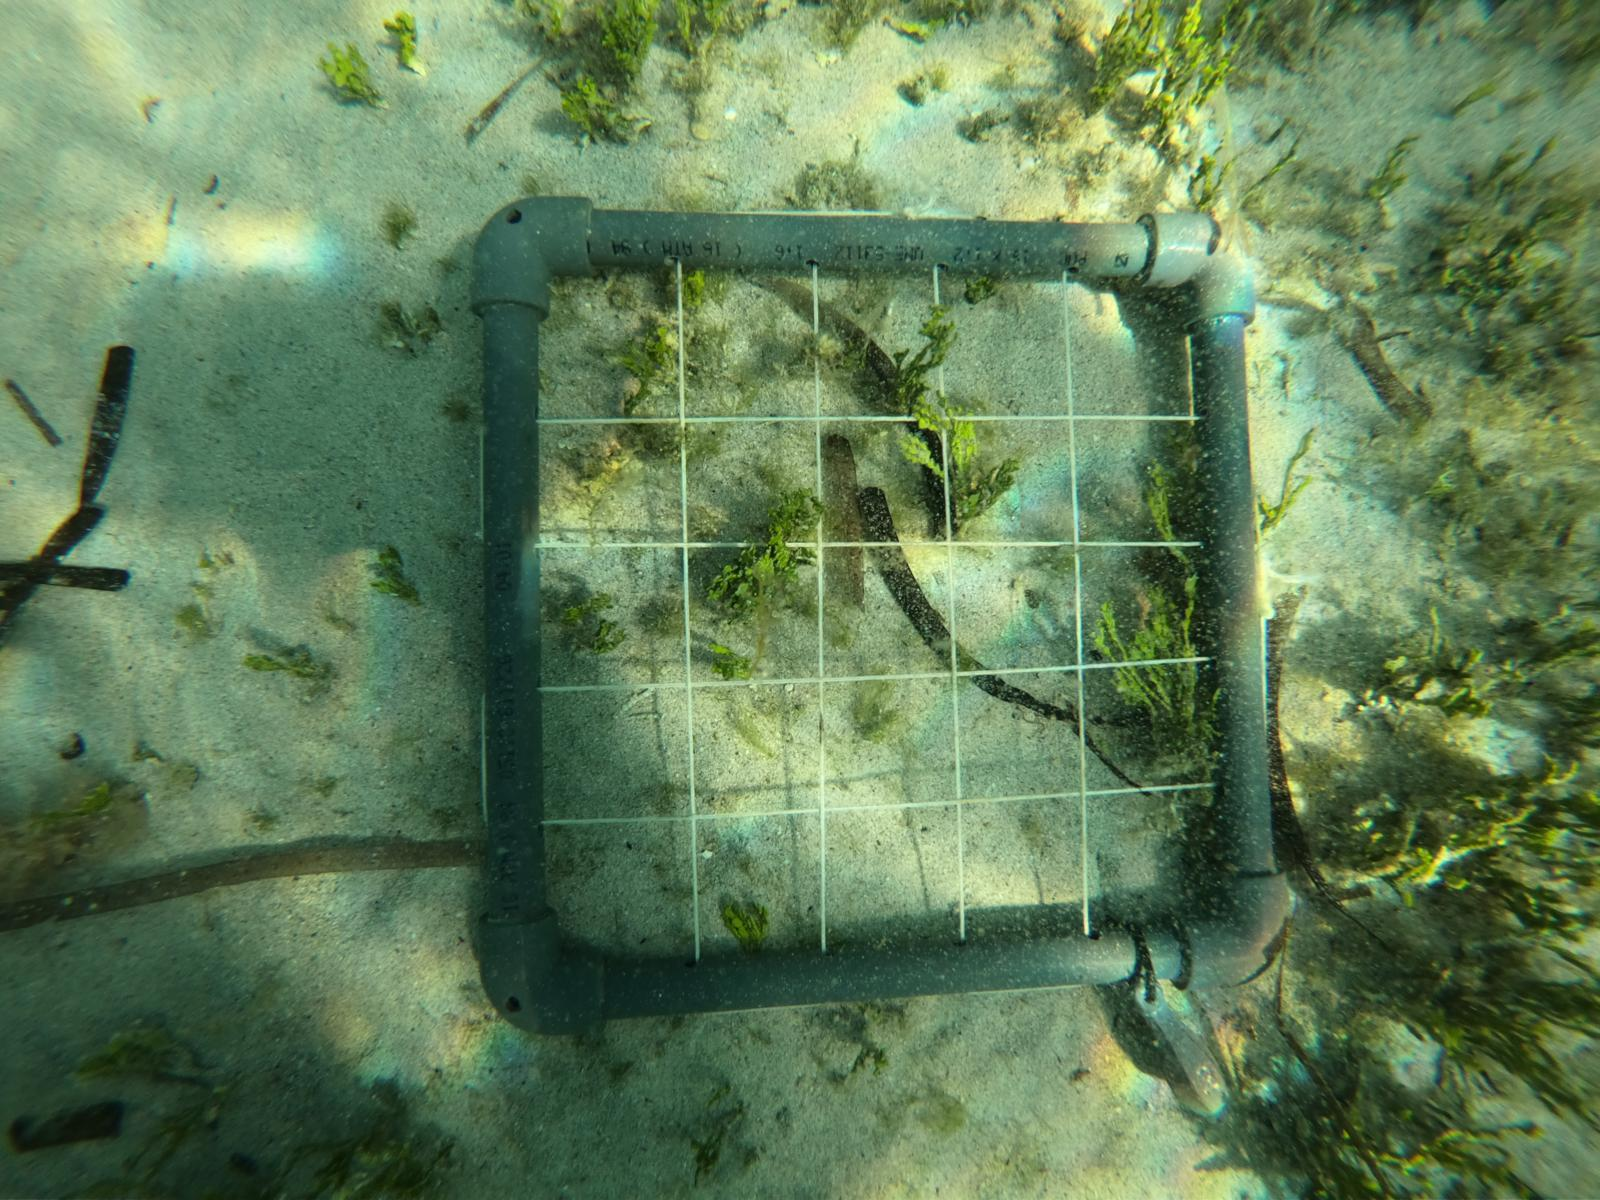halimeda: (1091, 603, 1204, 754), (719, 493, 824, 625), (900, 389, 1004, 519), (1145, 10, 1233, 139), (1378, 632, 1487, 710), (1426, 224, 1540, 292), (1091, 8, 1160, 111), (624, 313, 688, 418), (556, 68, 632, 147), (1138, 460, 1186, 567), (593, 4, 661, 73), (319, 43, 384, 106), (567, 597, 630, 655), (243, 650, 330, 682), (369, 555, 420, 608), (1371, 142, 1415, 199), (723, 904, 772, 952), (386, 13, 421, 71)
